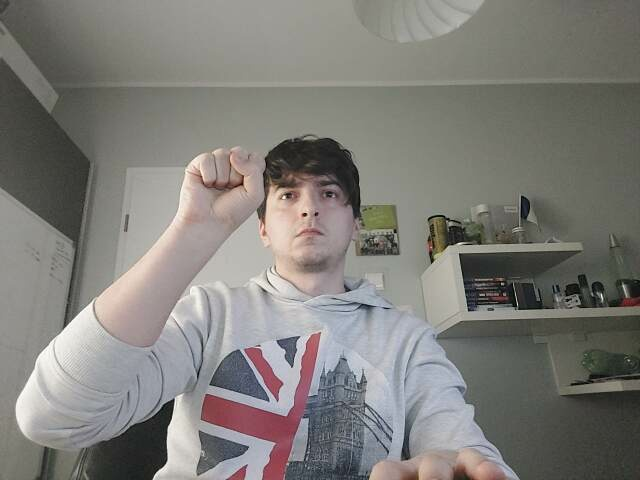yes: (177, 144, 265, 240)
